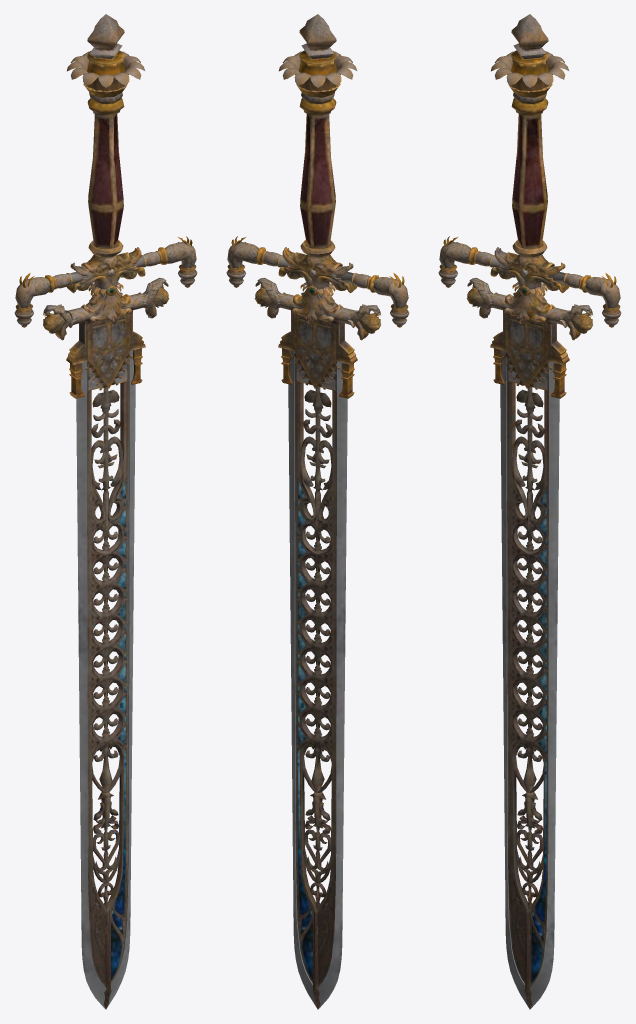
Rendered from weapon-wp_a_0223.glb.
3 renders of one model, left to right at view 1: azimuth 30°, elevation 25°; view 2: azimuth 150°, elevation 25°; view 3: azimuth 330°, elevation 25°, orthographic.
Visible parts, largest first — view 1: wp_a_0223_mesh; view 2: wp_a_0223_mesh; view 3: wp_a_0223_mesh.
Boxes of the visible parts, <box> form: wp_a_0223_mesh: <box>14,14,197,1009</box>; wp_a_0223_mesh: <box>226,14,409,1009</box>; wp_a_0223_mesh: <box>438,14,621,1009</box>.
Bounding box in the file's own units: 0.2147 × 1.13 × 0.0811.
2 materials, 2 textured.
